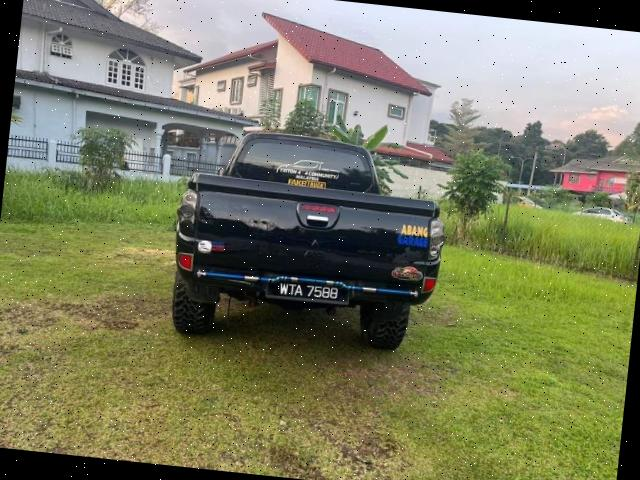License_Plate: (271, 278, 346, 305)
car: (164, 115, 462, 364)
